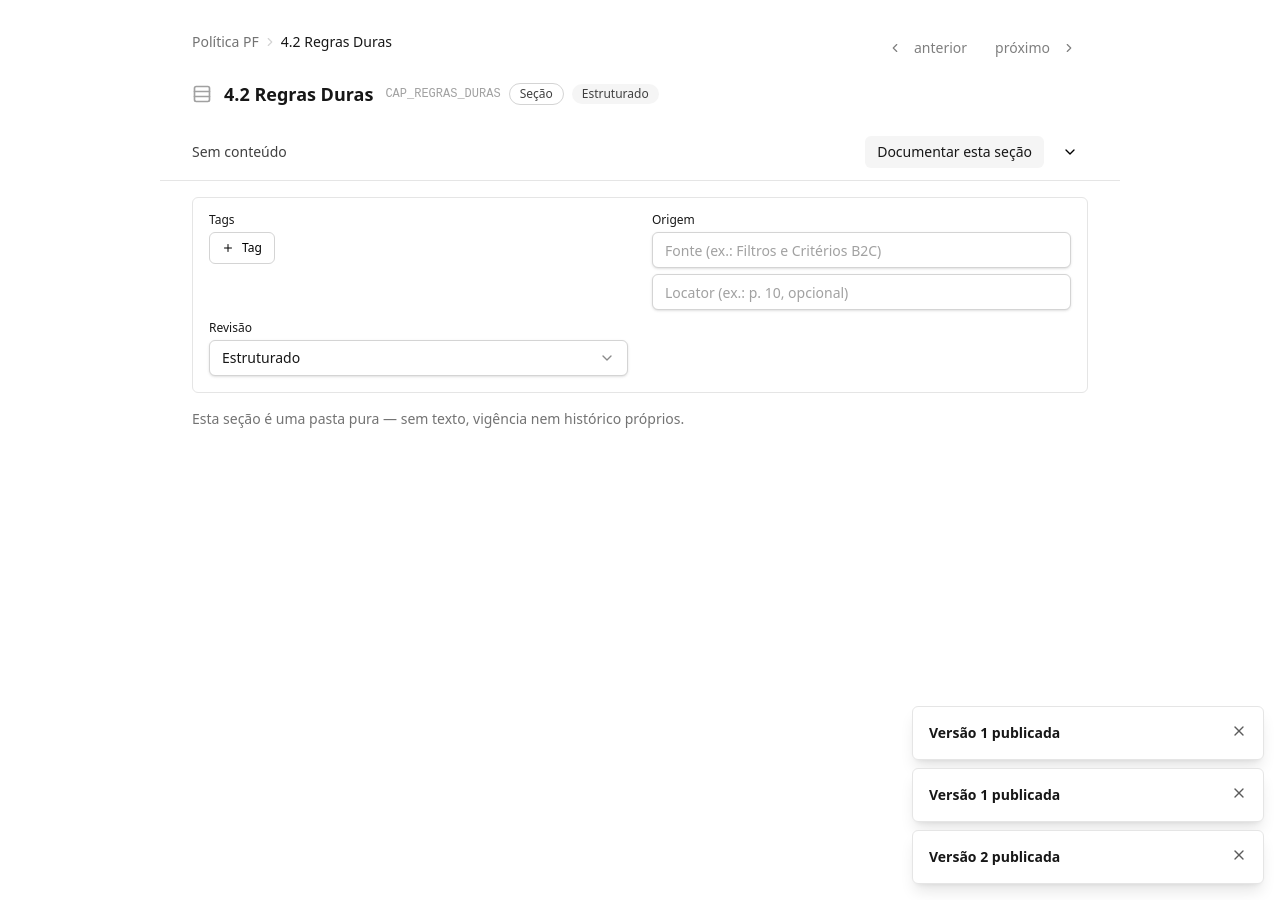
Test: ComponentPage — SECTION documentável (I27) › sem versões, é pasta pura; "Documentar esta seção" cria a v1 e a seção passa a ter texto e vigência
Expected: the text "pasta pura" is shown, [192,409,684,428]
Click the button "Documentar esta seção" at (955, 152), box [865,136,1044,168]
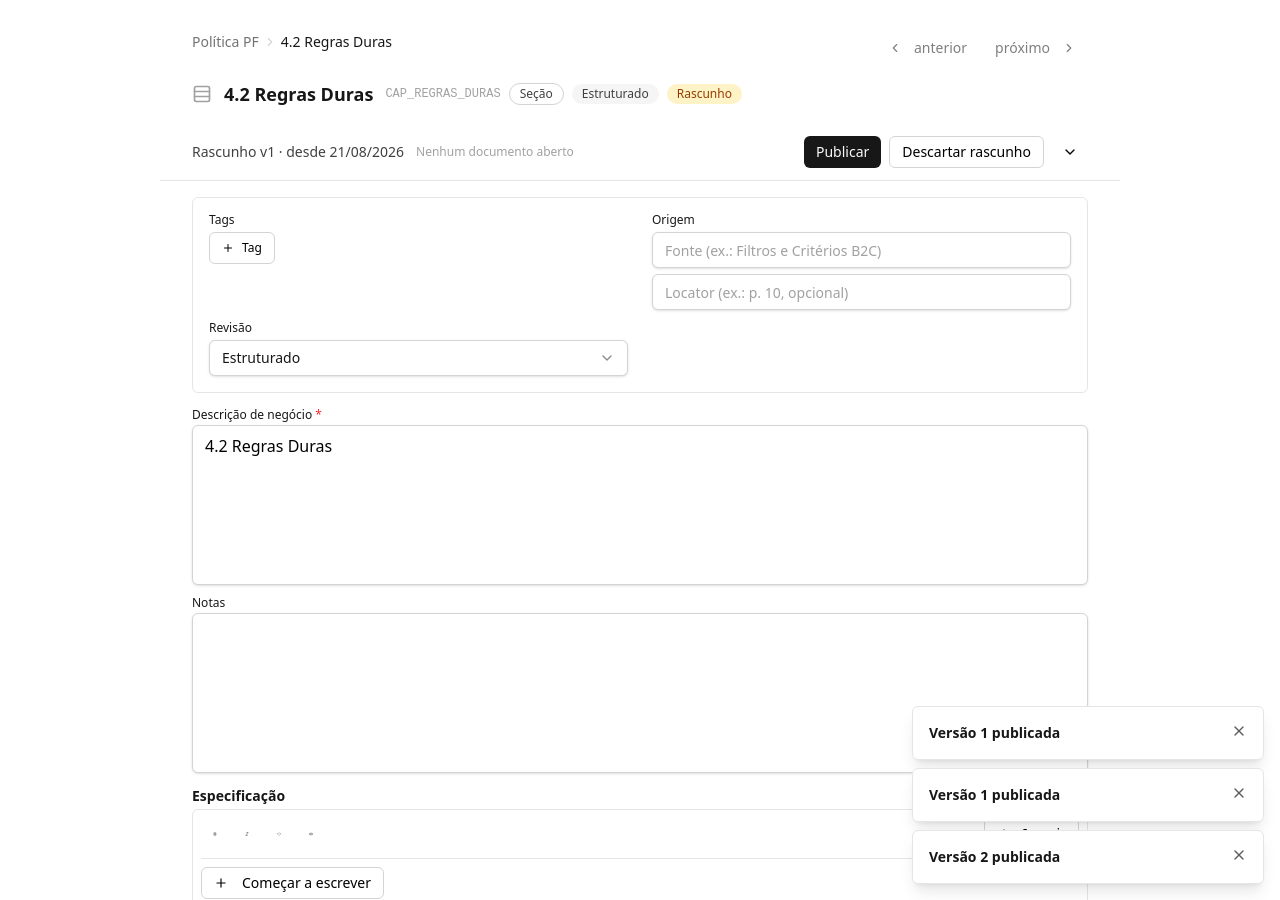
Now the text "pasta pura" is gone
